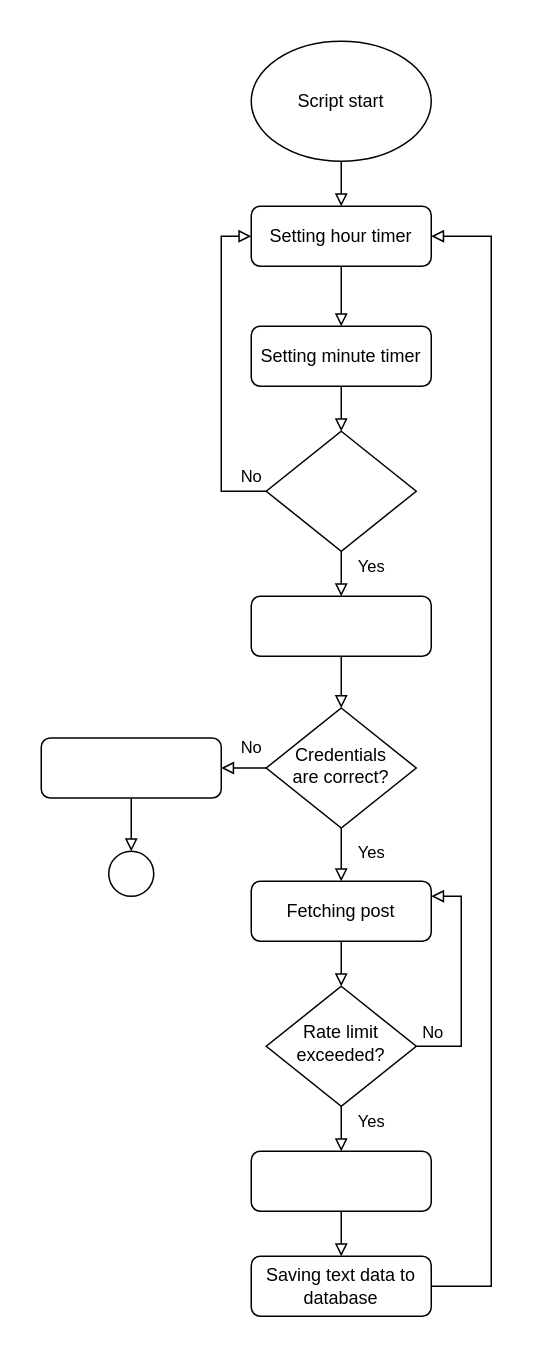
Some shapes in this 546 by 1371 pixel diagram are drawn without their labels. The box of each missing label's shape, as (x1, y1, x2, y2) in pixels:
Actual time?: (265, 430, 416, 551)
Error message: (40, 736, 221, 798)
Media downloading: (250, 1150, 431, 1211)
Twitter API call: (250, 595, 431, 656)
